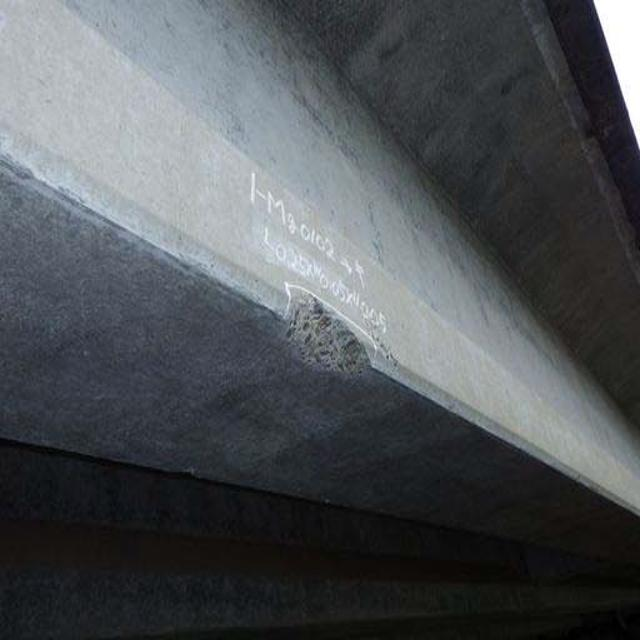spalling: (272, 286, 378, 390)
